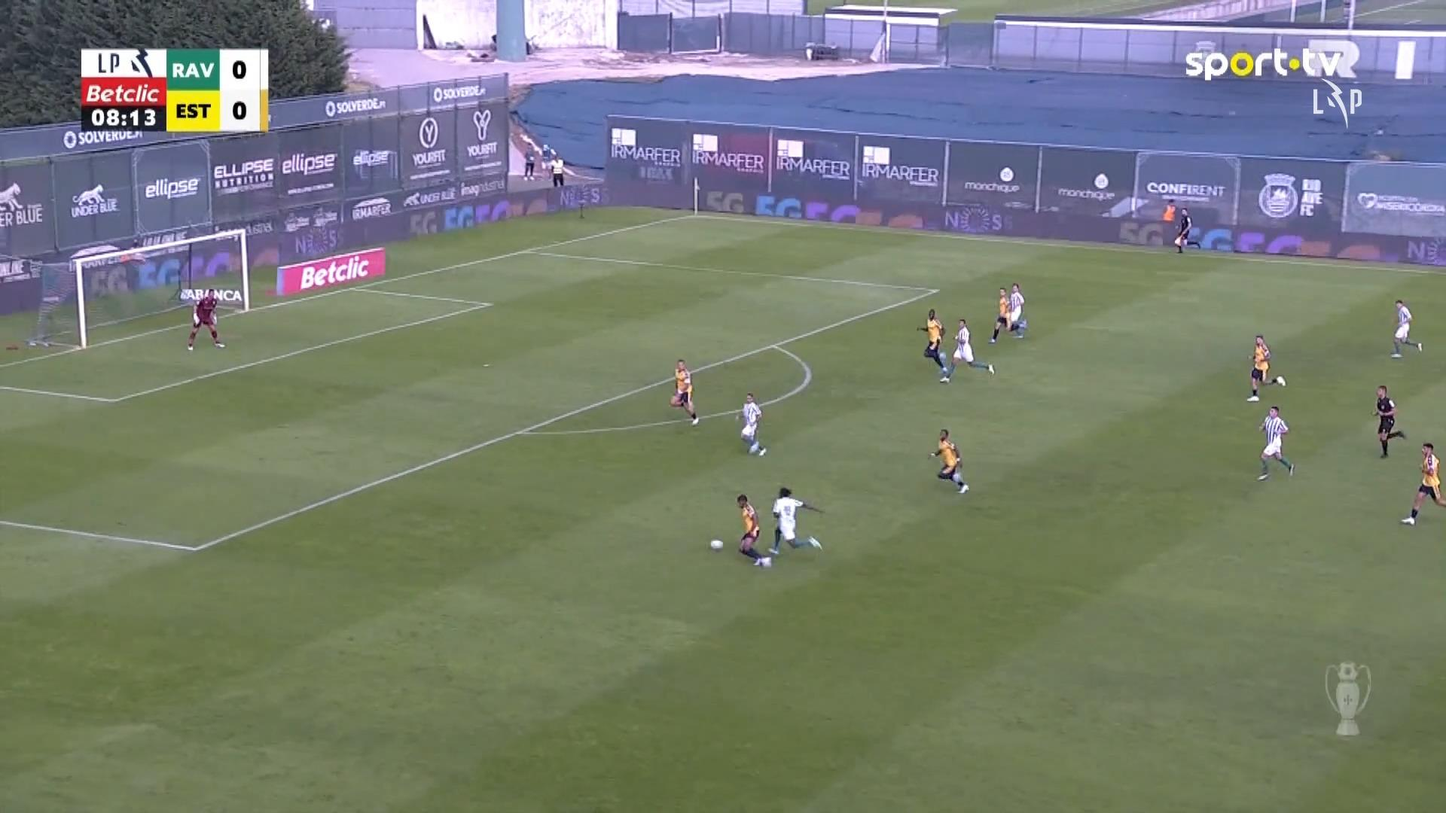ball: (709, 539, 722, 550)
goalkeeper: (185, 288, 225, 351)
player: (767, 486, 825, 556), (1399, 441, 1444, 525), (940, 318, 994, 383), (1255, 405, 1295, 480), (736, 493, 773, 567), (1246, 333, 1286, 401), (929, 428, 969, 493), (915, 308, 948, 379), (1390, 297, 1423, 358), (669, 358, 699, 425), (737, 392, 766, 455), (988, 286, 1012, 343), (1006, 282, 1027, 338), (548, 153, 565, 187), (522, 147, 535, 181), (1161, 197, 1176, 221)
referee: (1371, 383, 1405, 458), (1173, 207, 1191, 253)
